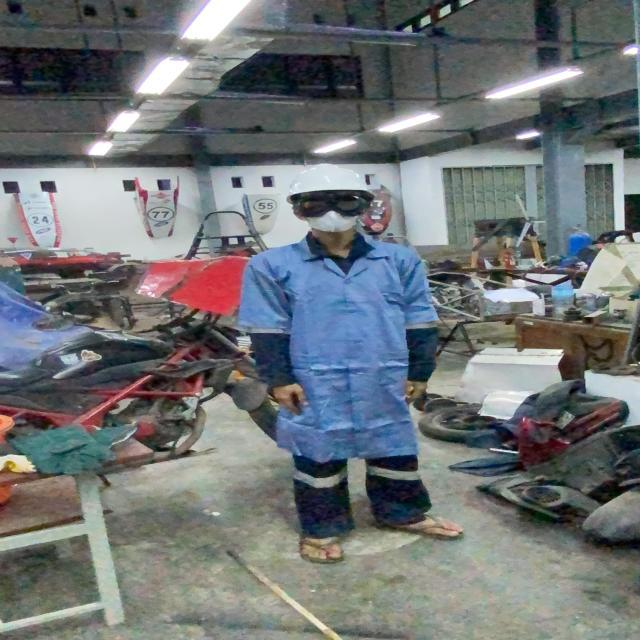glasses: (286, 195, 376, 218)
